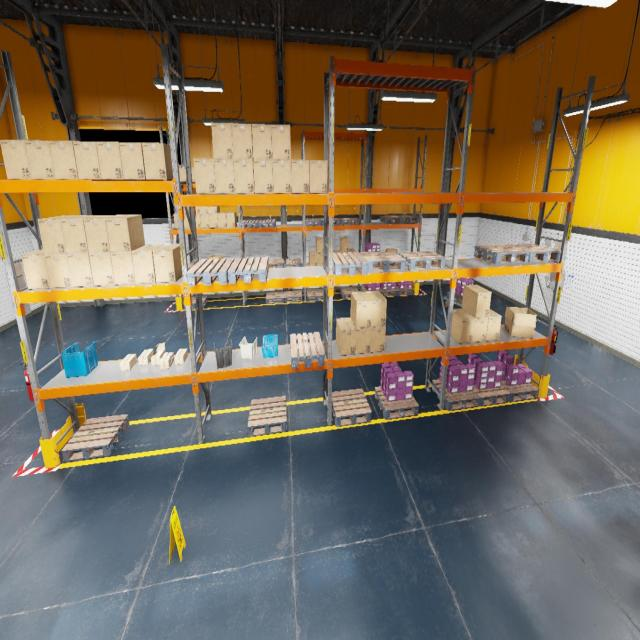box: (37, 216, 78, 254), (61, 215, 100, 254), (105, 214, 145, 252), (84, 215, 122, 252), (0, 139, 32, 180), (132, 244, 164, 284), (24, 140, 56, 179), (48, 140, 78, 180), (142, 142, 173, 180), (153, 244, 182, 283), (22, 249, 50, 289), (73, 141, 101, 180), (96, 142, 124, 180), (504, 306, 537, 338), (119, 142, 146, 180), (462, 284, 491, 318), (66, 253, 94, 287), (44, 254, 72, 288), (88, 252, 115, 286), (462, 309, 488, 342), (110, 252, 136, 284), (193, 158, 216, 194), (451, 309, 475, 343), (365, 290, 387, 326), (350, 292, 372, 328), (211, 122, 233, 158), (336, 317, 356, 356), (232, 124, 253, 160), (214, 159, 235, 194), (271, 124, 291, 160), (252, 124, 272, 159), (253, 160, 273, 193), (272, 160, 292, 193), (234, 160, 254, 193), (310, 160, 328, 193), (291, 160, 309, 193), (353, 322, 371, 354), (486, 308, 501, 341), (370, 326, 386, 353), (151, 343, 165, 365), (120, 354, 137, 370), (138, 348, 154, 365), (159, 352, 174, 369), (174, 348, 188, 364), (226, 212, 237, 228), (218, 212, 228, 228), (208, 255, 224, 264), (340, 236, 349, 252), (309, 250, 317, 266), (209, 214, 218, 228), (200, 214, 209, 228), (316, 238, 323, 252), (208, 206, 220, 214), (179, 167, 186, 180), (195, 214, 201, 228), (184, 214, 190, 228), (173, 213, 178, 229), (317, 252, 323, 265), (334, 250, 342, 258), (200, 206, 208, 214), (191, 167, 195, 183), (324, 237, 328, 252), (349, 249, 356, 257), (386, 248, 397, 253), (183, 206, 189, 214), (195, 206, 200, 214), (339, 250, 348, 253), (328, 253, 328, 265)
pallets: (61, 414, 129, 462), (248, 396, 286, 437), (432, 379, 479, 411), (332, 388, 371, 426), (374, 386, 418, 419), (186, 258, 234, 286), (290, 332, 324, 368), (228, 256, 268, 284), (474, 245, 529, 264), (360, 251, 406, 273), (505, 244, 561, 262), (398, 251, 446, 271), (501, 379, 539, 402), (473, 384, 510, 406), (333, 252, 368, 275), (183, 296, 208, 308), (340, 288, 359, 300), (266, 292, 284, 304), (284, 290, 302, 302), (307, 290, 323, 302), (395, 285, 414, 295), (447, 292, 462, 304), (241, 219, 259, 228), (380, 287, 398, 296), (380, 216, 402, 223), (398, 215, 419, 222), (339, 218, 360, 225), (259, 219, 275, 228), (320, 218, 340, 225), (305, 218, 322, 226), (268, 259, 284, 267), (286, 258, 302, 266), (361, 287, 381, 293), (245, 262, 260, 268), (188, 262, 194, 270)
